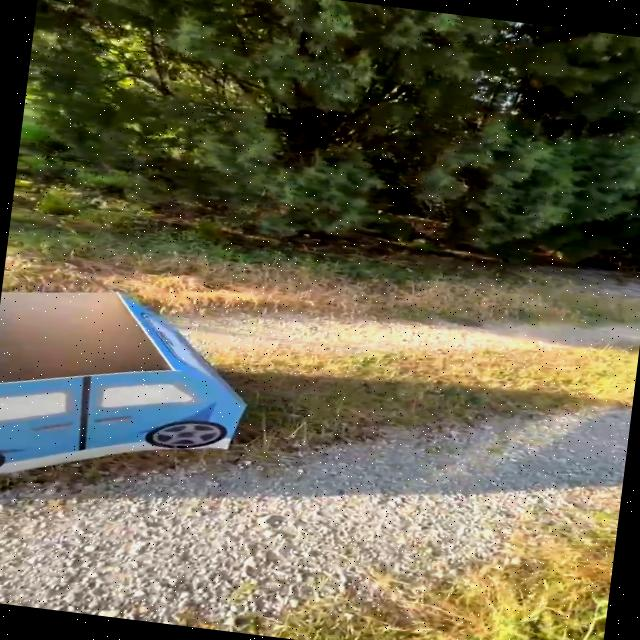blue_car: (0, 241, 300, 526)
